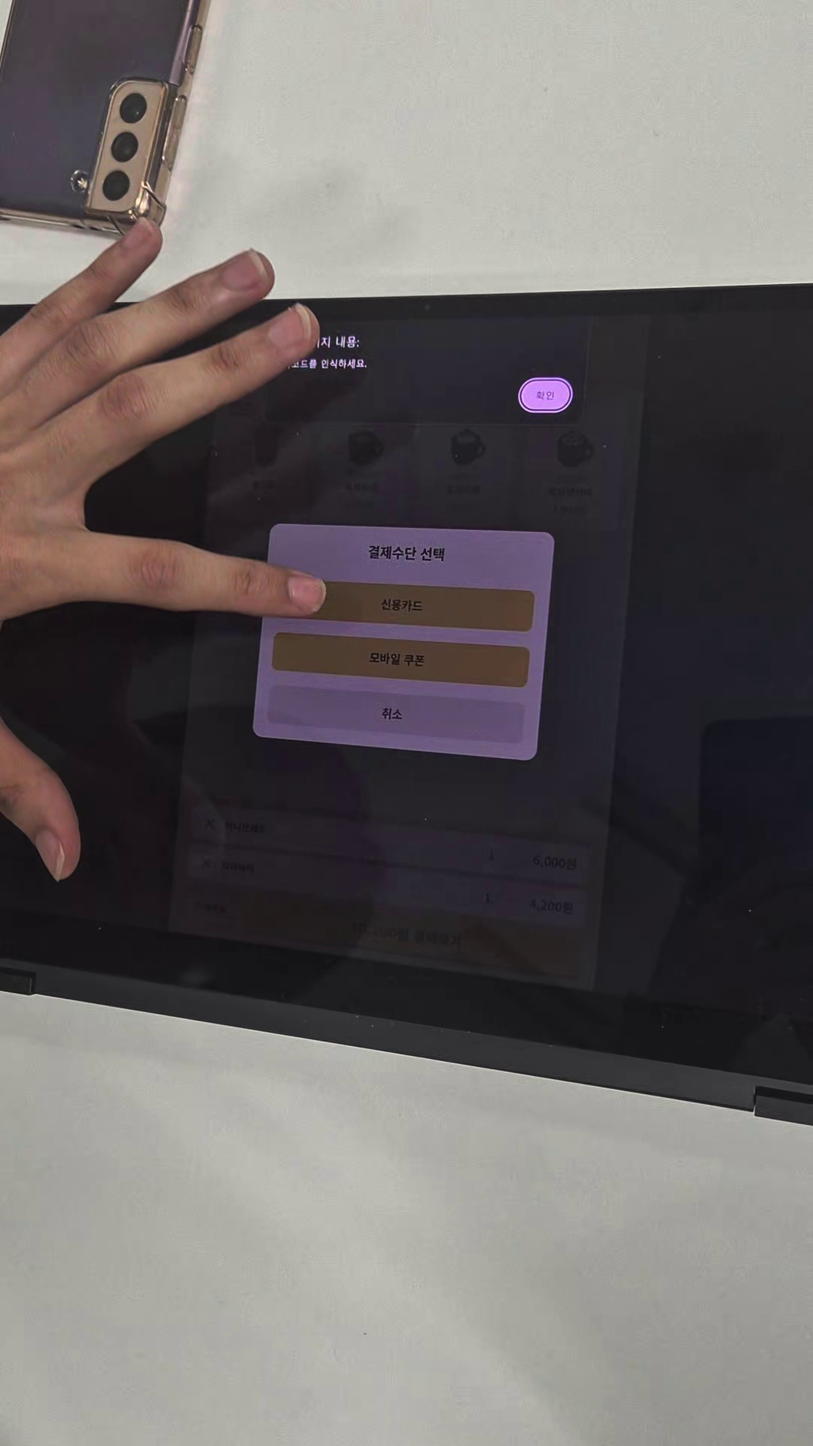action_button: (244, 894, 587, 978), (265, 686, 525, 745), (272, 635, 530, 689), (276, 578, 534, 631), (189, 888, 238, 925)
cart_item: (186, 843, 586, 925), (191, 799, 592, 879)
popup_modal: (251, 522, 555, 761)
